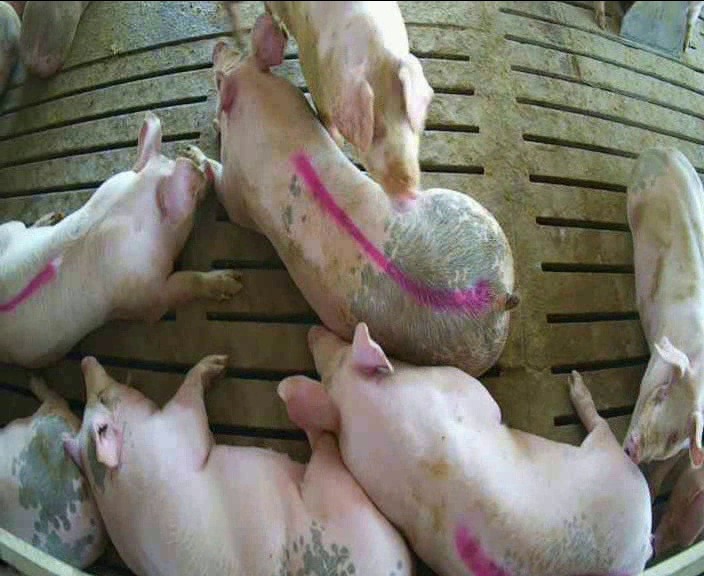pig: (279, 323, 651, 573), (60, 355, 410, 572), (0, 115, 239, 366), (267, 2, 432, 206), (624, 148, 703, 468), (0, 378, 104, 567)
